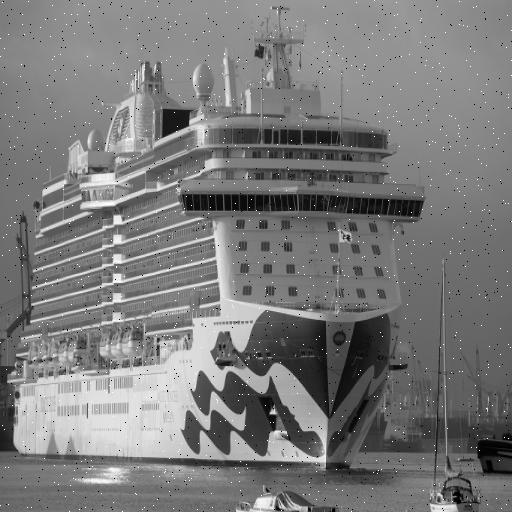cruises: (6, 6, 431, 486)
